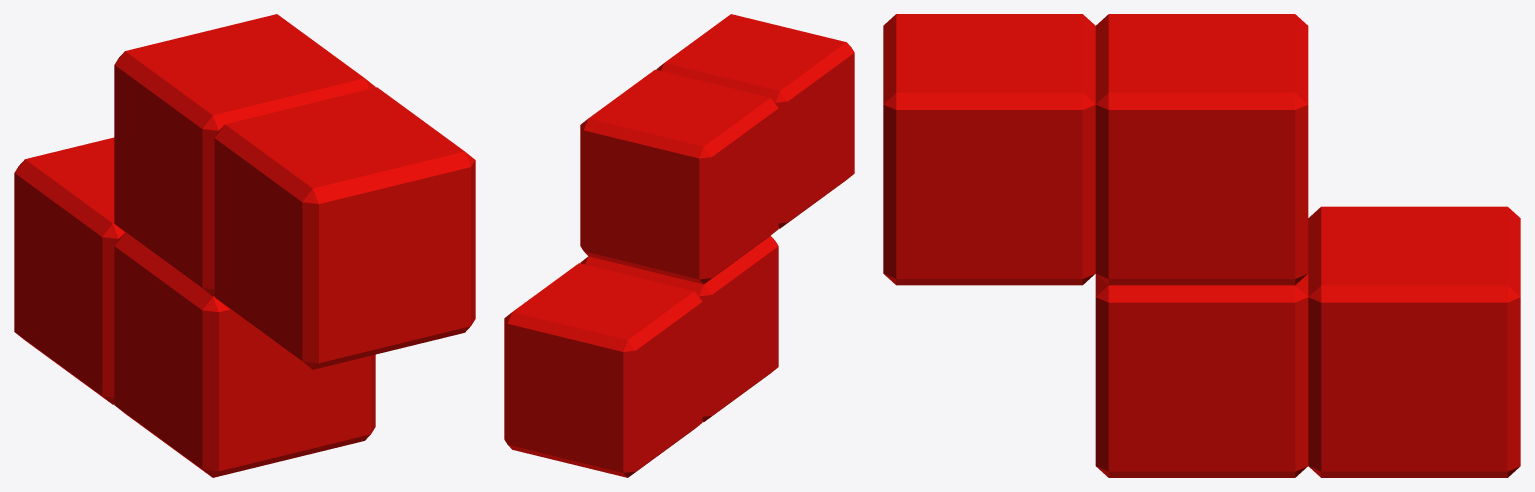
File: TetriminoZ.fbx
3 renders of one model, left to right at view 1: azimuth 30°, elevation 25°; view 2: azimuth 150°, elevation 25°; view 3: azimuth 270°, elevation 25°, orthographic. The views are drawn at different scales.
Visible parts, largest first — view 1: Cube.003, Cube.000, Cube.002, Cube.001; view 2: Cube.002, Cube.001, Cube.003, Cube.000; view 3: Cube.002, Cube.001, Cube.003, Cube.000.
Boxes of the visible parts, bbox=[...] form: Cube.003: bbox=[214, 87, 475, 369]; Cube.000: bbox=[114, 232, 375, 477]; Cube.002: bbox=[114, 14, 375, 296]; Cube.001: bbox=[14, 137, 124, 404]; Cube.002: bbox=[580, 69, 778, 284]; Cube.001: bbox=[504, 263, 702, 477]; Cube.003: bbox=[656, 14, 854, 228]; Cube.000: bbox=[580, 236, 778, 422]; Cube.002: bbox=[1095, 14, 1308, 285]; Cube.001: bbox=[1308, 206, 1520, 477]; Cube.003: bbox=[883, 14, 1095, 285]; Cube.000: bbox=[1095, 274, 1308, 477].
Size of the model in its own units: 200 by 400 by 600.
